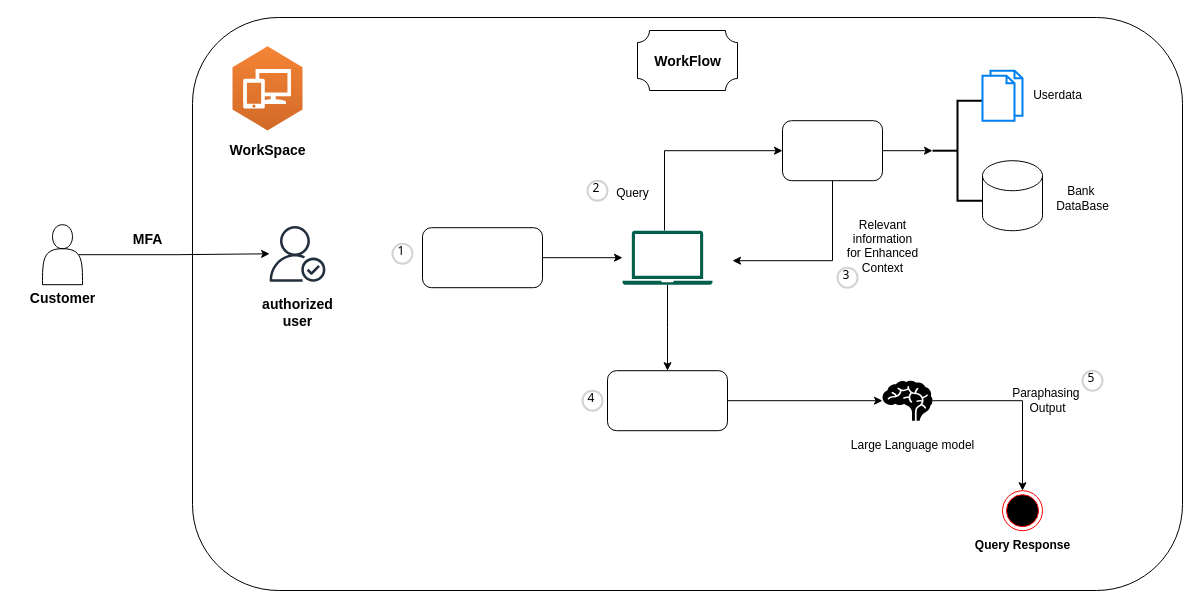
Some shapes in this 1200 by 608 pixel diagram are drawn without their labels. The shapes that lost their labels are listed below. From the top down, each one's box as (x1, y1, x2, y2) in pixels, then its label:
(782, 120, 882, 181): Search Relevant infomation
(422, 227, 542, 288): Prompt + Customer Query
(606, 370, 728, 431): Prompt+ Query+ Enhanced context
